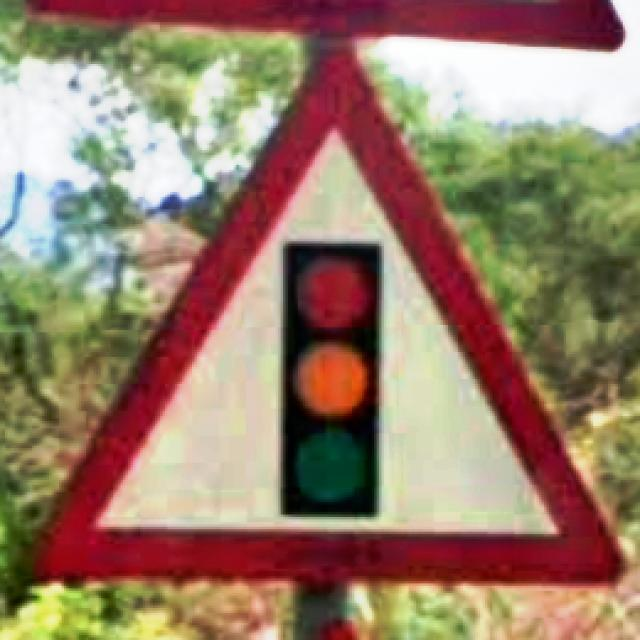signalahead: (32, 48, 627, 585)
